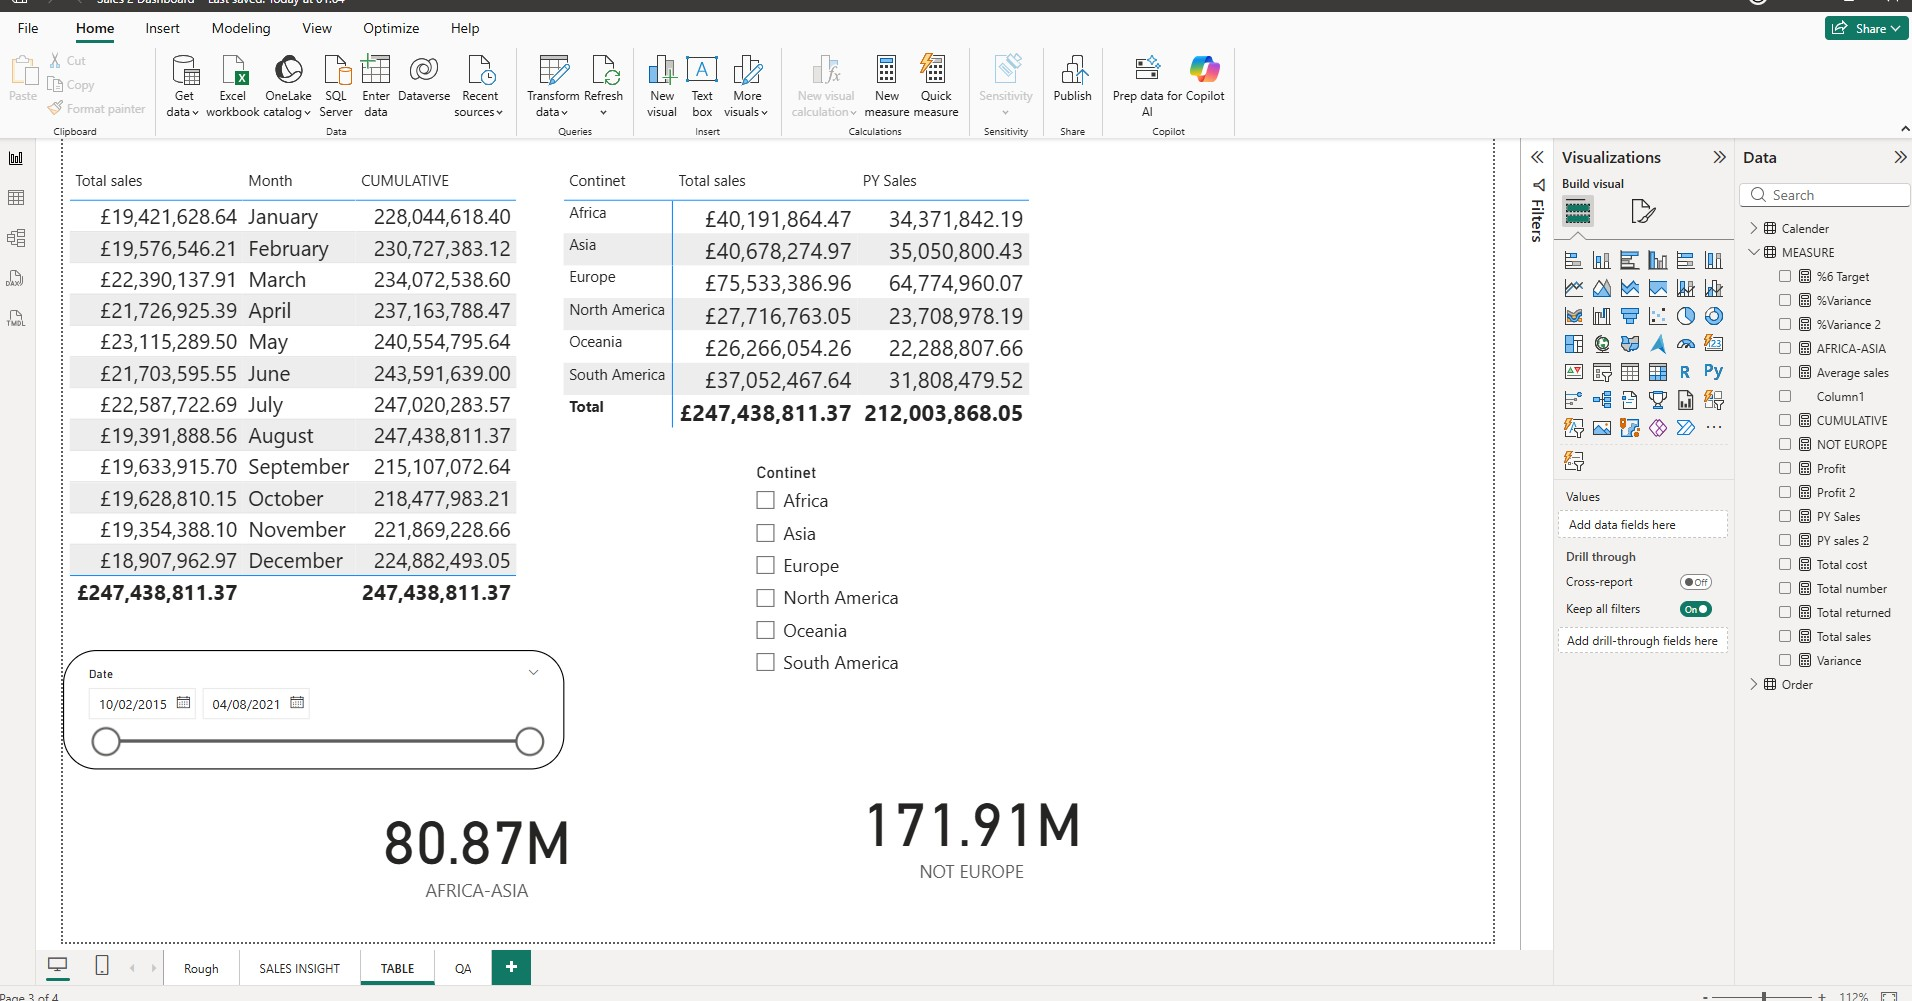

The page's visual inventory and layout, read from the dashboard file:
{"tool":"powerbi","page":{"name":"TABLE","canvas":[1280,720],"ordinal":2},"visuals":[{"type":"tableEx","fields":{"Values":["MEASURE.Total sales","Calender.Date.Variation.Date Hierarchy.Month","MEASURE.CUMULATIVE"]},"box":[0,23.3,415.6,413.3],"z":0},{"type":"pivotTable","fields":{"Rows":["Order.Continet"],"Values":["MEASURE.Total sales","MEASURE.PY Sales"]},"box":[443.3,23.3,554.4,272.2],"z":1000},{"type":"slicer","fields":{"Values":["Calender.Date"]},"box":[0,458.9,448.9,106.7],"z":2000},{"type":"slicer","fields":{"Values":["Order.Continet"]},"box":[607.8,286.7,448.9,203.3],"z":3000},{"type":"card","fields":{"Values":["MEASURE.AFRICA-ASIA"]},"box":[184.4,565.6,372.2,137.8],"z":4000},{"type":"card","fields":{"Values":["MEASURE.NOT EUROPE"]},"box":[640,516.7,346.7,203.3],"z":5000}]}

Visuals, with their boxes on the page's 1280x720 design canvas (x1, y1, x2, y2). These are canvas units, not pixel positions in the 1912x1001 screenshot, which may show the page scaled, cropped or inside an application window:
tableEx - MEASURE.Total sales x Calender.Date.Variation.Date Hierarchy.Month: crop(0, 23, 416, 437)
pivotTable - Order.Continet x MEASURE.Total sales: crop(443, 23, 998, 296)
slicer - Calender.Date: crop(0, 459, 449, 566)
slicer - Order.Continet: crop(608, 287, 1057, 490)
card - MEASURE.AFRICA-ASIA: crop(184, 566, 557, 703)
card - MEASURE.NOT EUROPE: crop(640, 517, 987, 720)
